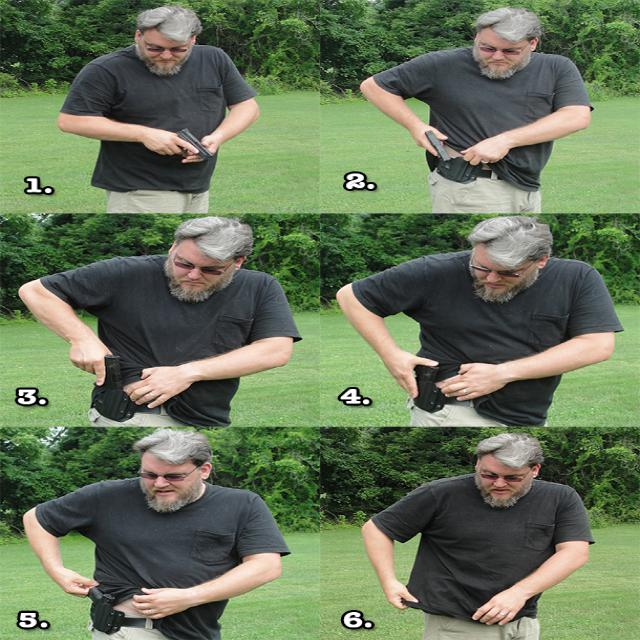handgun: (158, 127, 216, 162), (409, 360, 442, 414), (83, 353, 130, 389), (79, 586, 115, 632), (420, 129, 453, 164)
